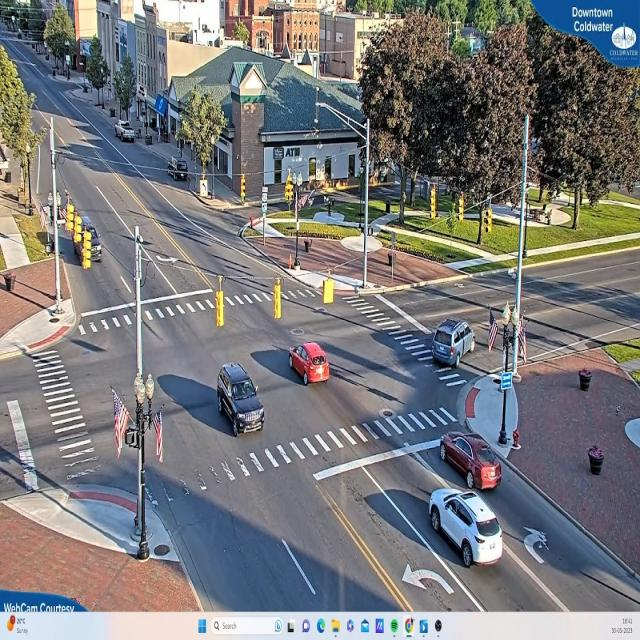car: (427, 487, 505, 572), (215, 364, 265, 435), (442, 434, 502, 492), (432, 317, 476, 369), (288, 345, 332, 388), (166, 158, 189, 180), (116, 124, 136, 143)
